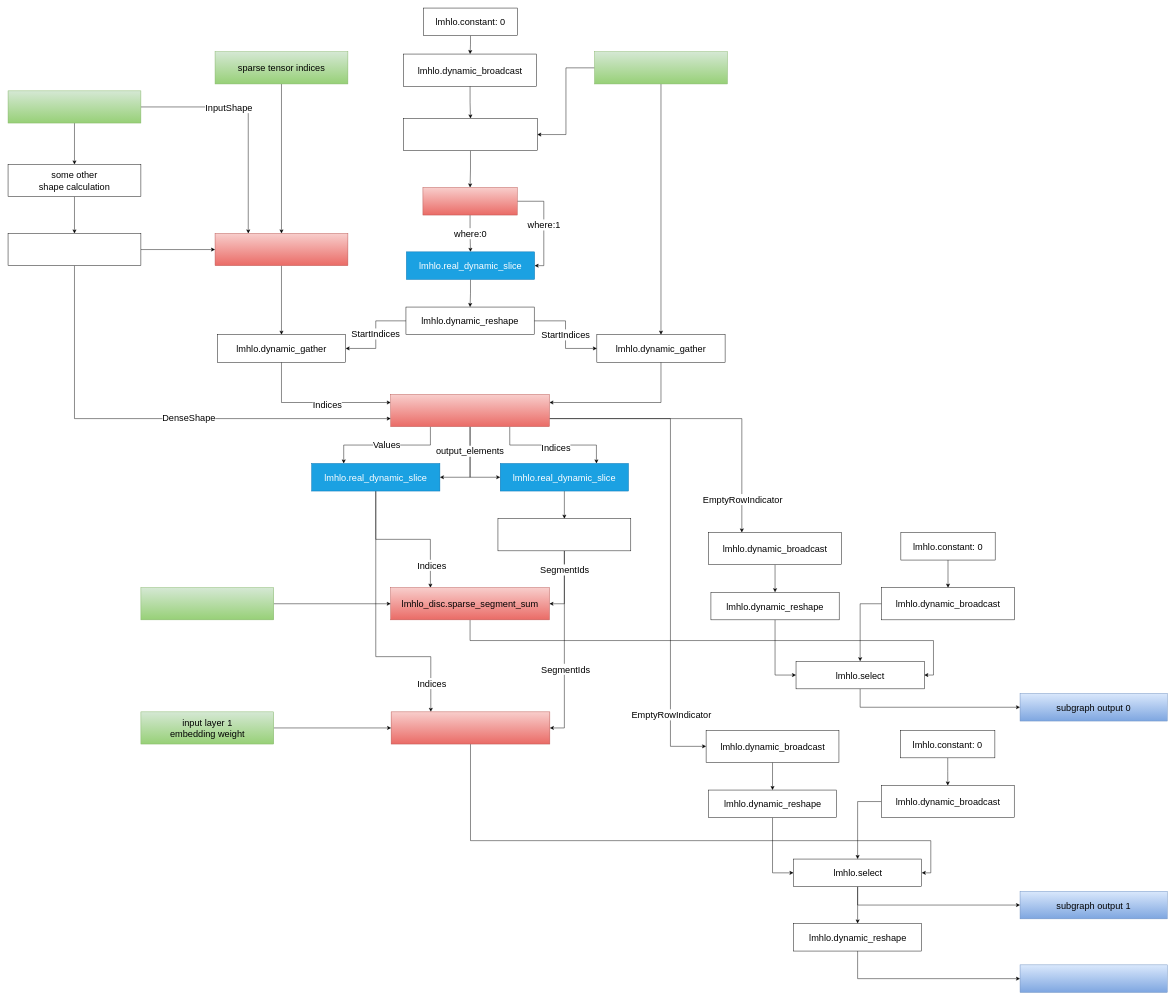
Some shapes in this 1175 by 1001 pixel diagram are drawn without their labels. The shapes that lost their labels are listed below. From the top down, each one's centre as x and y in pixels, then its label:
At [660,67]: "sparse tensor values".
At [74,106]: "sparse tensor shape".
At [470,134]: "lmhlo.compare : GE".
At [469,201]: "lmhlo_disc.where".
At [74,249]: "NewShape".
At [281,249]: "lmhlo_disc.sparse_reshape".
At [469,410]: "lmhlo_disc.sparse_fill_empty_rows".
At [564,534]: "logic lower from `sp_ids.indices[:, 0]`".
At [207,603]: "input layer embedding weight".
At [470,727]: "lmhlo_disc.sparse_segment_mean".
At [1093,978]: "subgraph output 2".
